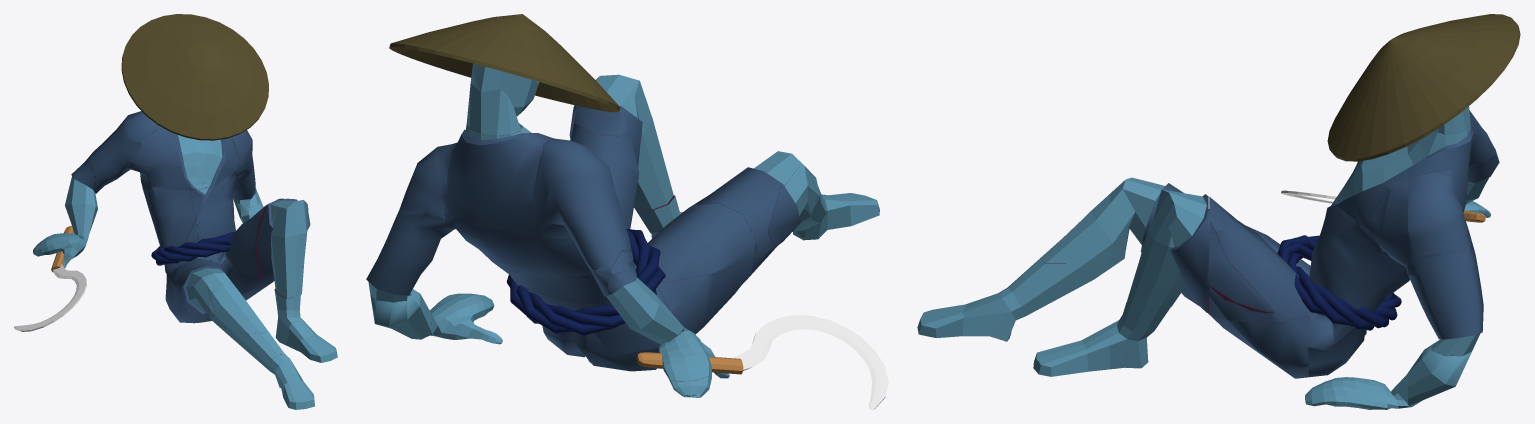
Rendered from Test_Explosion_Ragdoll_Samurai.fbx.
The picture shows the model from 3 angles, left to right: view 1: azimuth 30°, elevation 25°; view 2: azimuth 150°, elevation 25°; view 3: azimuth 270°, elevation 25°; orthographic projection. The views are drawn at different scales.
Parts seen in each view (by area): view 1: Kasa, BaseModel.042, BaseModel.001, BaseModel.005, BaseModel.045, BaseModel.012, BaseModel.015, BaseModel.006, BaseModel.013, BaseModel.024, BaseModel.009, Sash (+9 smaller); view 2: Kasa, BaseModel.005, BaseModel.020, BaseModel.009, BaseModel.045, BaseModel.023, BaseModel.029, BaseModel.001, Sash, Sickle, BaseModel.037, BaseModel.035 (+12 smaller); view 3: Kasa, BaseModel.009, BaseModel.042, BaseModel.001, BaseModel.013, BaseModel.024, BaseModel.029, Sash, BaseModel.014, BaseModel.015, BaseModel.037, BaseModel.020 (+6 smaller).
Boxes of the visible parts, x1,y1,x2,y2 form: Kasa: [121, 14, 268, 140]; BaseModel.042: [211, 283, 314, 409]; BaseModel.001: [256, 198, 310, 298]; BaseModel.005: [78, 111, 163, 211]; BaseModel.045: [33, 168, 97, 268]; BaseModel.012: [143, 180, 201, 263]; BaseModel.015: [172, 132, 237, 190]; BaseModel.006: [134, 128, 189, 189]; BaseModel.013: [189, 169, 237, 258]; BaseModel.024: [202, 213, 263, 278]; BaseModel.009: [232, 130, 260, 207]; Sash: [151, 231, 234, 265]; Kasa: [389, 14, 620, 112]; BaseModel.005: [533, 139, 633, 306]; BaseModel.020: [444, 123, 556, 236]; BaseModel.009: [366, 142, 457, 302]; BaseModel.045: [607, 259, 729, 397]; BaseModel.023: [634, 203, 755, 282]; BaseModel.029: [370, 289, 502, 344]; BaseModel.001: [569, 74, 673, 209]; Sash: [506, 229, 665, 335]; Sickle: [636, 315, 888, 409]; BaseModel.037: [695, 151, 813, 256]; BaseModel.035: [466, 63, 539, 135]; Kasa: [1327, 14, 1520, 161]; BaseModel.009: [1373, 171, 1483, 356]; BaseModel.042: [917, 194, 1109, 341]; BaseModel.001: [1126, 189, 1208, 312]; BaseModel.013: [1308, 194, 1407, 315]; BaseModel.024: [1209, 210, 1308, 321]; BaseModel.029: [1308, 345, 1471, 409]; Sash: [1277, 235, 1401, 330]; BaseModel.014: [1209, 312, 1308, 378]; BaseModel.015: [1336, 146, 1407, 231]; BaseModel.037: [1110, 178, 1209, 272]; BaseModel.020: [1408, 123, 1473, 212].
Bounding box in the file's own units: 172 × 139 × 212.
